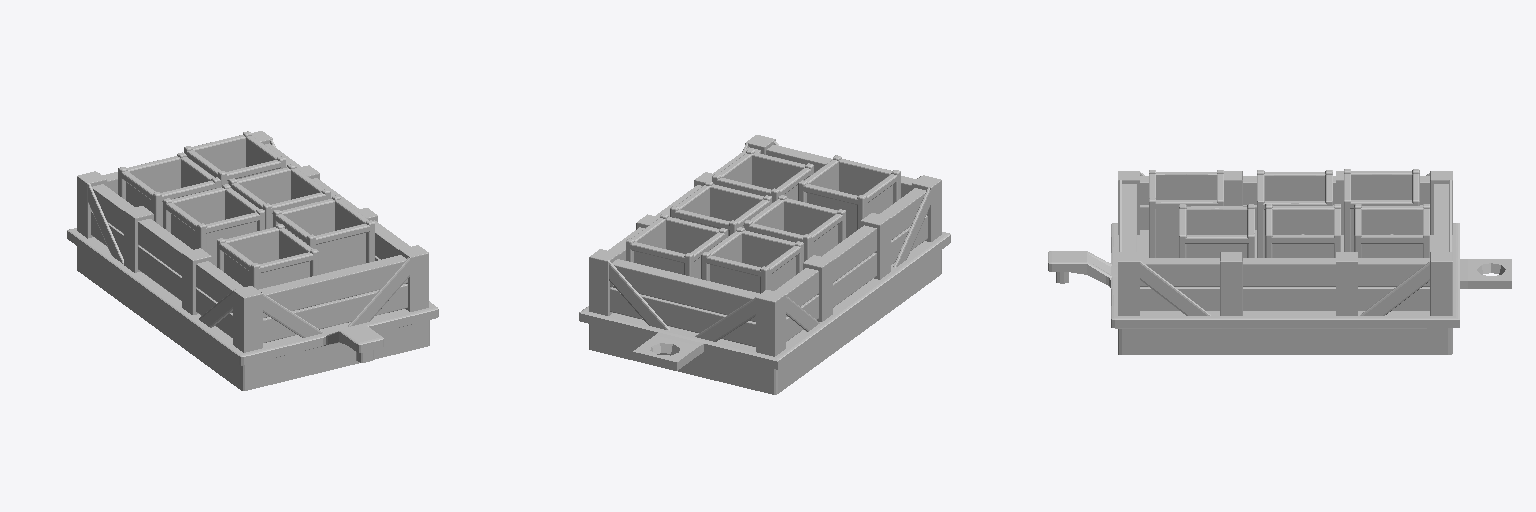
File: SM_roue_ressource.obj
The picture shows the model from 3 angles: view 1: azimuth 30°, elevation 25°; view 2: azimuth 150°, elevation 25°; view 3: azimuth 270°, elevation 25°; orthographic projection.
Visible parts, largest first — view 1: Cube.003, wagon.001, cagette.002, cagette.001, cagette.003, cagette.005, cagette.006, cagette.004, Cube.007, Cube.008, Cube.004, Cube.005; view 2: Cube.003, wagon.001, cagette.005, cagette.001, cagette.006, cagette.003, cagette.002, cagette.004, Cube.006, Cube.001, Cube.005, Cube.004; view 3: Cube.003, wagon.001, cagette.001, cagette.006, cagette.004, cagette.002, cagette.005, cagette.003, Cube, Cube.002.
Boxes of the visible parts, x1,y1,x2,y2 form: Cube.003: [77, 131, 428, 352]; wagon.001: [67, 228, 438, 390]; cagette.002: [273, 195, 374, 274]; cagette.001: [217, 224, 318, 289]; cagette.003: [163, 184, 264, 266]; cagette.005: [118, 152, 220, 226]; cagette.006: [184, 131, 285, 186]; cagette.004: [228, 164, 330, 228]; Cube.007: [348, 257, 409, 326]; Cube.008: [261, 292, 323, 337]; Cube.004: [88, 184, 123, 263]; Cube.005: [199, 289, 235, 327]; Cube.003: [589, 135, 941, 356]; wagon.001: [579, 232, 950, 394]; cagette.005: [701, 227, 803, 293]; cagette.001: [798, 155, 900, 237]; cagette.006: [626, 213, 727, 278]; cagette.003: [744, 195, 845, 261]; cagette.002: [712, 149, 813, 202]; cagette.004: [670, 181, 771, 235]; Cube.006: [608, 260, 669, 330]; Cube.001: [695, 297, 755, 341]; Cube.005: [893, 187, 930, 267]; Cube.004: [786, 296, 819, 331]; Cube.003: [1118, 171, 1452, 315]; wagon.001: [1048, 223, 1511, 354]; cagette.001: [1149, 170, 1223, 257]; cagette.006: [1354, 204, 1429, 257]; cagette.004: [1265, 204, 1340, 257]; cagette.002: [1179, 204, 1254, 257]; cagette.005: [1344, 169, 1419, 251]; cagette.003: [1257, 170, 1332, 257]; Cube: [1140, 261, 1210, 315]; Cube.002: [1360, 262, 1429, 315].
Size of the model in its own units: 3.04 by 1.57 by 6.15.